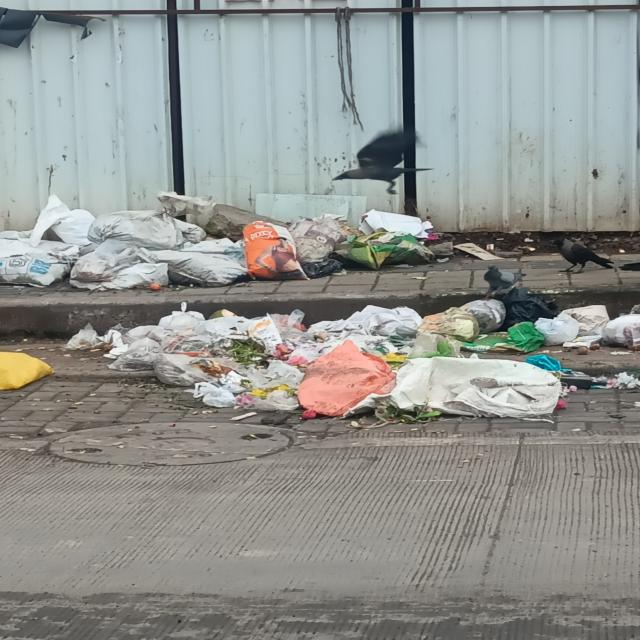garbage: (0, 298, 640, 419), (0, 196, 477, 283)
